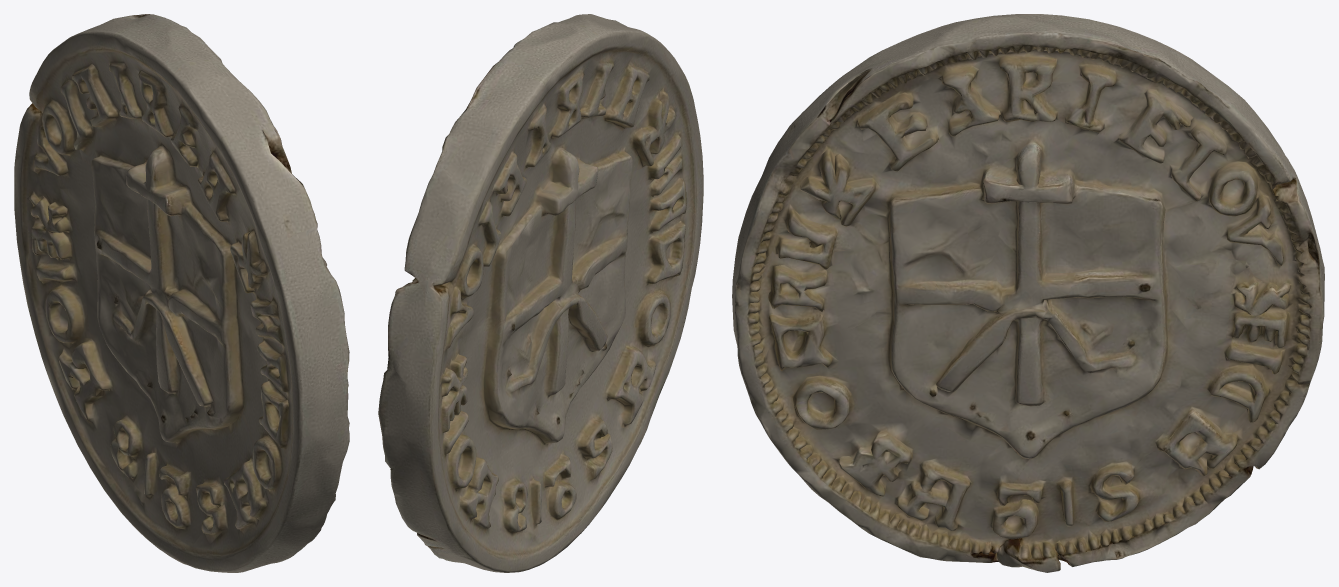
File: hand-spindle.glb
3 renders of one model, left to right at view 1: azimuth 30°, elevation 25°; view 2: azimuth 150°, elevation 25°; view 3: azimuth 270°, elevation 25°, orthographic. The views are drawn at different scales.
Parts seen in each view (by area): view 1: tripo_node_a991eb08-9f51-4dae-b204-e3be4eaaec05; view 2: tripo_node_a991eb08-9f51-4dae-b204-e3be4eaaec05; view 3: tripo_node_a991eb08-9f51-4dae-b204-e3be4eaaec05.
Boxes of the visible parts, x1,y1,x2,y2 form: tripo_node_a991eb08-9f51-4dae-b204-e3be4eaaec05: (14,14,349,572); tripo_node_a991eb08-9f51-4dae-b204-e3be4eaaec05: (378,14,703,572); tripo_node_a991eb08-9f51-4dae-b204-e3be4eaaec05: (732,14,1324,572).
Size of the model in its own units: 0.1569 by 1 by 0.9991.
1 material, 1 textured.
